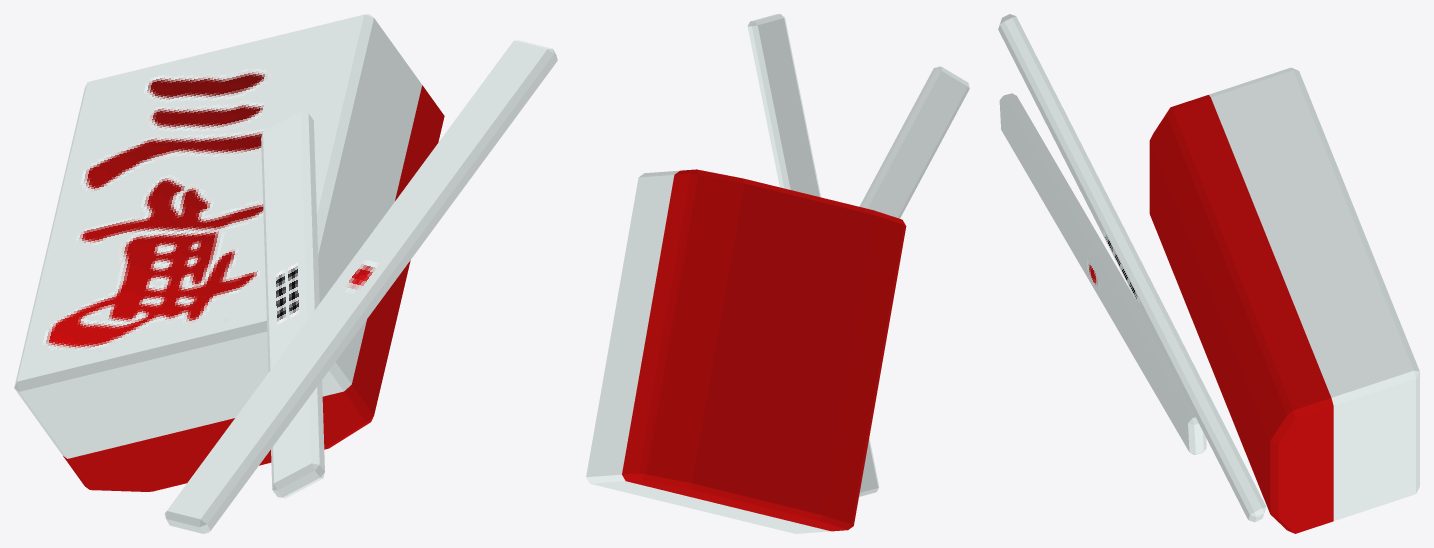
Rendered from ps2_save-icons_mahjonghaohbattleroyale.glb.
3 views of the same model, side by side, from view 1: azimuth 30°, elevation 25°; view 2: azimuth 150°, elevation 25°; view 3: azimuth 270°, elevation 25° (orthographic). The views are drawn at different scales.
Visible parts, largest first — view 1: system.ico; view 2: system.ico; view 3: system.ico.
Part boxes in pixels (x1,y1,x2,y2): system.ico: [14, 14, 557, 533]; system.ico: [586, 14, 969, 533]; system.ico: [998, 14, 1419, 533].
Size of the model in its own units: 2.7 by 4.55 by 3.77.
1 material, 1 textured.
